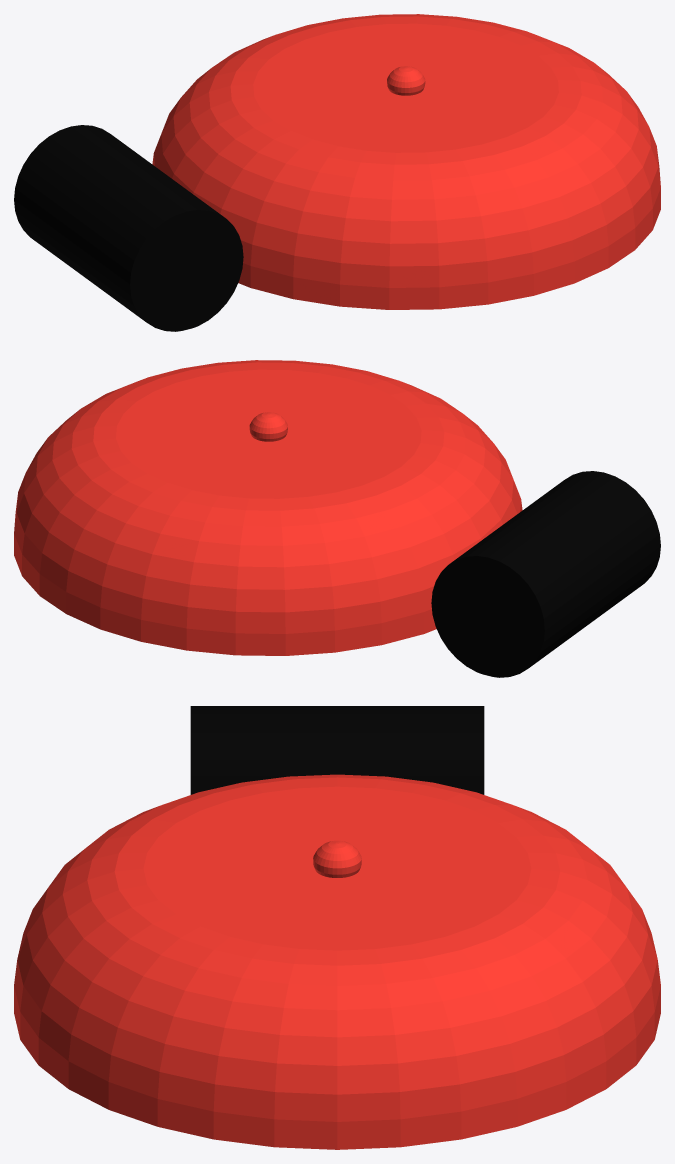
Rendered from chicharra.obj.
The picture shows the model from 3 angles, top to bottom: view 1: azimuth 30°, elevation 25°; view 2: azimuth 150°, elevation 25°; view 3: azimuth 270°, elevation 25°; orthographic projection. The views are drawn at different scales.
Visible parts, largest first — view 1: Mesh; view 2: Mesh; view 3: Mesh.
Part boxes in pixels (x1,y1,x2,y2): Mesh: (14, 14, 660, 331); Mesh: (14, 360, 660, 677); Mesh: (14, 706, 660, 1149).
Size of the model in its own units: 2.51 by 0.6539 by 2.
1 material, 1 textured.
